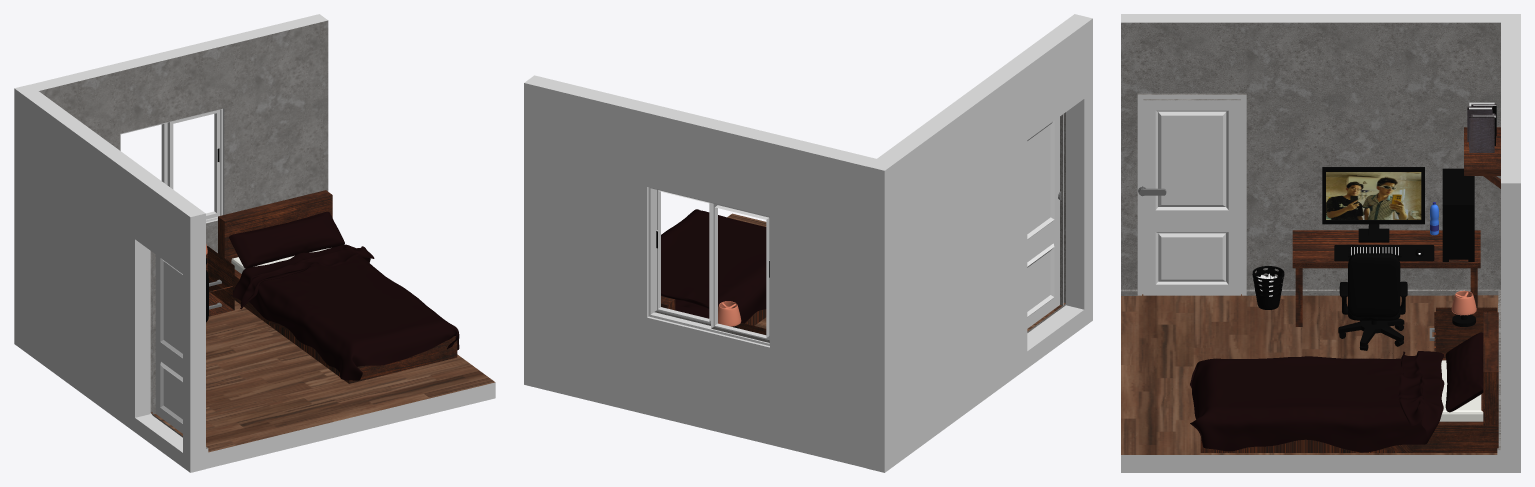
The model's file is room.original.glb.
The picture shows the model from 3 angles, left to right: view 1: azimuth 30°, elevation 25°; view 2: azimuth 150°, elevation 25°; view 3: azimuth 270°, elevation 25°; orthographic projection. The views are drawn at different scales.
Parts seen in each view (by area): view 1: Habitacion_0, Left_ExtWall, sabana_6, Cama_4, Door_Hinge, Cojin_5, Mesa noche_25; view 2: Habitacion_0, Left_ExtWall, sabana_6, Door_Hinge; view 3: Habitacion_0, sabana_6, Door_Hinge, Pantalla_20, Cama_4, Silla_22, Mesa_18, Left_ExtWall, Ordenador_19, Cojin_5, Mesa noche_25, Libros_28 (+5 smaller).
Part boxes in pixels (x1,y1,x2,y2): Habitacion_0: (30, 14, 495, 468); Left_ExtWall: (14, 84, 205, 472); sabana_6: (231, 244, 459, 380); Cama_4: (218, 190, 457, 383); Door_Hinge: (152, 252, 182, 433); Cojin_5: (229, 211, 344, 268); Mesa noche_25: (206, 246, 234, 316); Habitacion_0: (524, 75, 1065, 468); Left_ExtWall: (866, 14, 1092, 472); sabana_6: (661, 209, 766, 323); Door_Hinge: (1027, 114, 1063, 328); Habitacion_0: (1121, 22, 1520, 472); sabana_6: (1190, 351, 1444, 452); Door_Hinge: (1137, 95, 1246, 295); Pantalla_20: (1322, 167, 1424, 242); Cama_4: (1200, 312, 1498, 452); Silla_22: (1338, 253, 1407, 350); Mesa_18: (1292, 230, 1480, 326); Left_ExtWall: (1121, 14, 1520, 22); Ordenador_19: (1442, 168, 1474, 261); Cojin_5: (1445, 332, 1483, 412); Mesa noche_25: (1429, 307, 1497, 360); Libros_28: (1467, 102, 1496, 152).
Size of the model in its own units: 9.96 by 7.72 by 9.64.
Materials: 21 (7 with a texture image).
